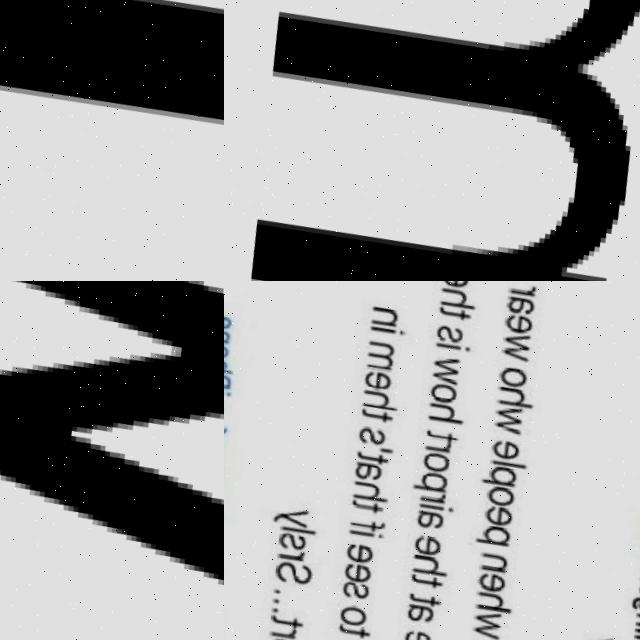1: (0, 0, 224, 271)
A: (502, 297, 536, 322), (407, 511, 441, 536), (395, 604, 430, 628), (346, 461, 378, 487)
E: (404, 537, 438, 561), (469, 573, 501, 598), (477, 507, 508, 532), (337, 544, 368, 569), (358, 371, 390, 395), (334, 563, 367, 586), (501, 316, 531, 341), (486, 442, 517, 466), (436, 281, 469, 293), (393, 631, 424, 640), (224, 314, 231, 332)
F: (342, 519, 379, 537)
G: (622, 600, 640, 619)
H: (466, 593, 507, 619), (403, 556, 443, 581), (436, 289, 476, 314), (346, 482, 386, 506), (357, 392, 397, 416), (493, 389, 532, 413), (422, 404, 460, 428), (224, 358, 232, 377)
I: (411, 504, 448, 517), (342, 530, 378, 543), (367, 327, 403, 340), (433, 345, 467, 357), (626, 632, 640, 640)
L: (486, 462, 522, 475), (275, 527, 312, 538)
M: (224, 0, 640, 281), (361, 342, 395, 376)
N: (366, 307, 399, 332), (473, 554, 503, 579), (625, 616, 640, 633), (633, 561, 640, 578)
O: (416, 453, 448, 479), (495, 368, 526, 394), (424, 385, 456, 409), (330, 606, 360, 631), (480, 489, 511, 512), (630, 574, 640, 593)
P: (473, 466, 513, 493), (466, 527, 506, 552), (405, 472, 444, 497)
R: (507, 284, 536, 303), (419, 441, 448, 458), (270, 548, 298, 565), (413, 492, 442, 508), (260, 625, 289, 640)
S: (266, 560, 308, 589), (351, 427, 384, 450), (432, 326, 464, 348), (333, 581, 363, 603), (271, 532, 301, 554)
T: (434, 308, 470, 326), (402, 576, 437, 594), (351, 452, 386, 470), (355, 410, 390, 428), (263, 615, 298, 633), (400, 595, 436, 611), (420, 433, 453, 449), (344, 501, 377, 517), (328, 626, 363, 640), (630, 590, 640, 605)
W: (0, 281, 224, 636), (489, 408, 522, 441), (426, 357, 458, 390), (498, 336, 530, 367), (463, 611, 496, 640)
Y: (264, 507, 305, 533)
